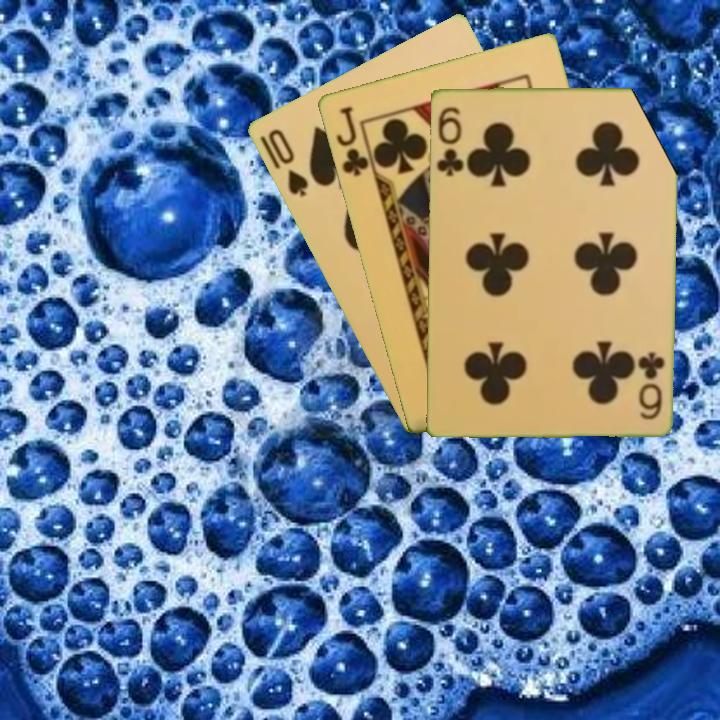10s: (264, 125, 311, 200)
6c: (433, 103, 466, 179), (635, 348, 667, 422)
Jc: (332, 102, 376, 179)
